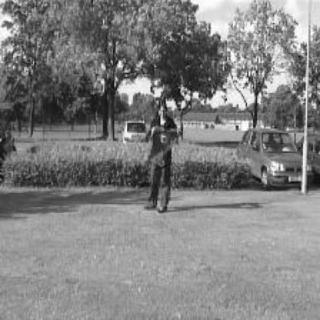other: (143, 123, 183, 165)
